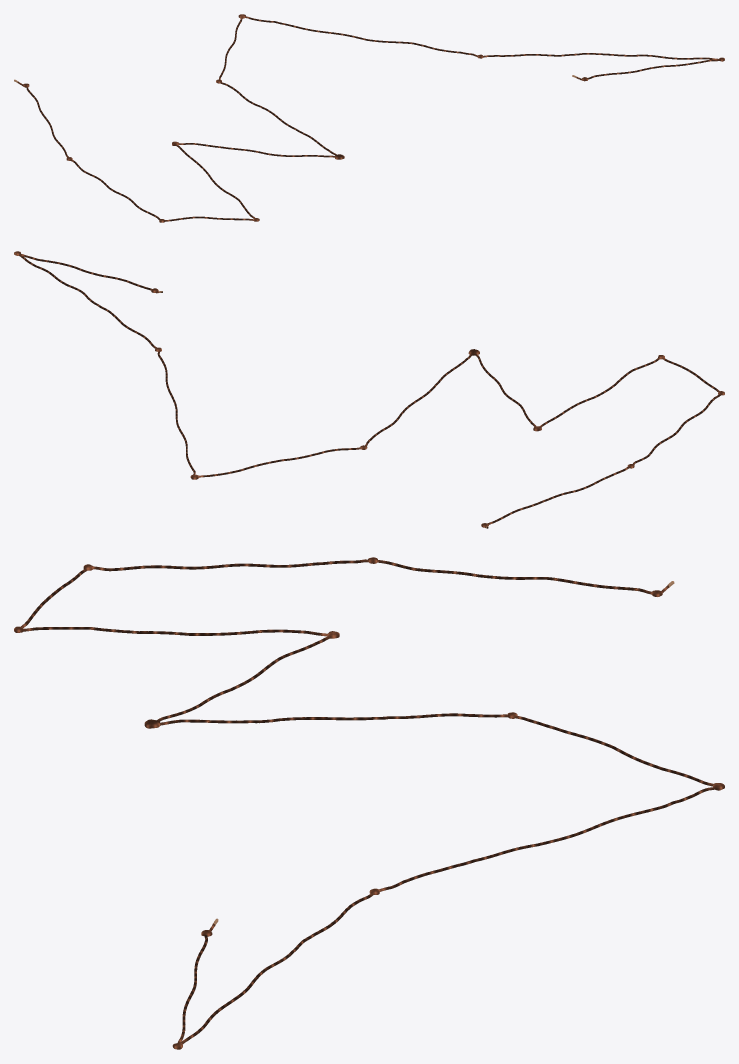
The model's file is tunnels-15-6.glb.
The picture shows the model from 3 angles, top to bottom: view 1: azimuth 30°, elevation 25°; view 2: azimuth 150°, elevation 25°; view 3: azimuth 270°, elevation 25°; orthographic projection. The views are drawn at different scales.
Parts seen in each view (by area): view 1: passage_7_14, passage_14_13, passage_5_8; view 2: no part large enough to name; view 3: passage_7_14, passage_8_18, passage_4_5, passage_3_1, passage_15_3, passage_14_13.
Part boxes in pixels (box(x1,y1,x2,y2)): passage_7_14: box(245, 16, 477, 56); passage_14_13: box(483, 53, 718, 59); passage_5_8: box(178, 143, 335, 157); passage_7_14: box(379, 787, 714, 891); passage_8_18: box(160, 713, 507, 725); passage_4_5: box(23, 627, 327, 636); passage_3_1: box(93, 559, 368, 571); passage_15_3: box(377, 560, 651, 594); passage_14_13: box(180, 892, 373, 1044).
Bounding box in the file's own units: 1527 × 24.65 × 944.
